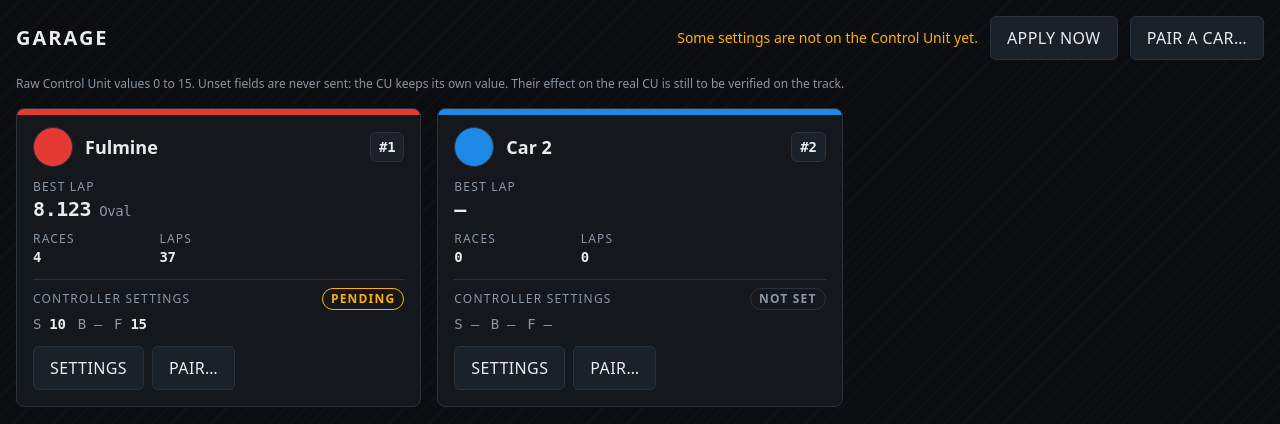
Test: Garage page › Apply now posts and the badge turns to applied
The image size is (1280, 424).
Step 1. Click the button with test id "garage-apply" → click(1054, 38), box [990,16,1118,60]
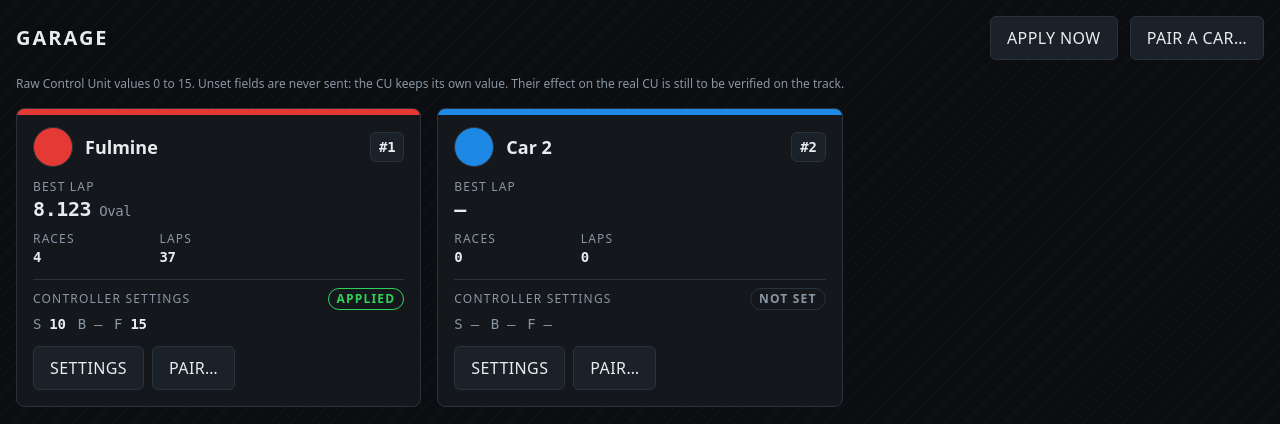
Now the text with test id "garage-pending-note" is gone
